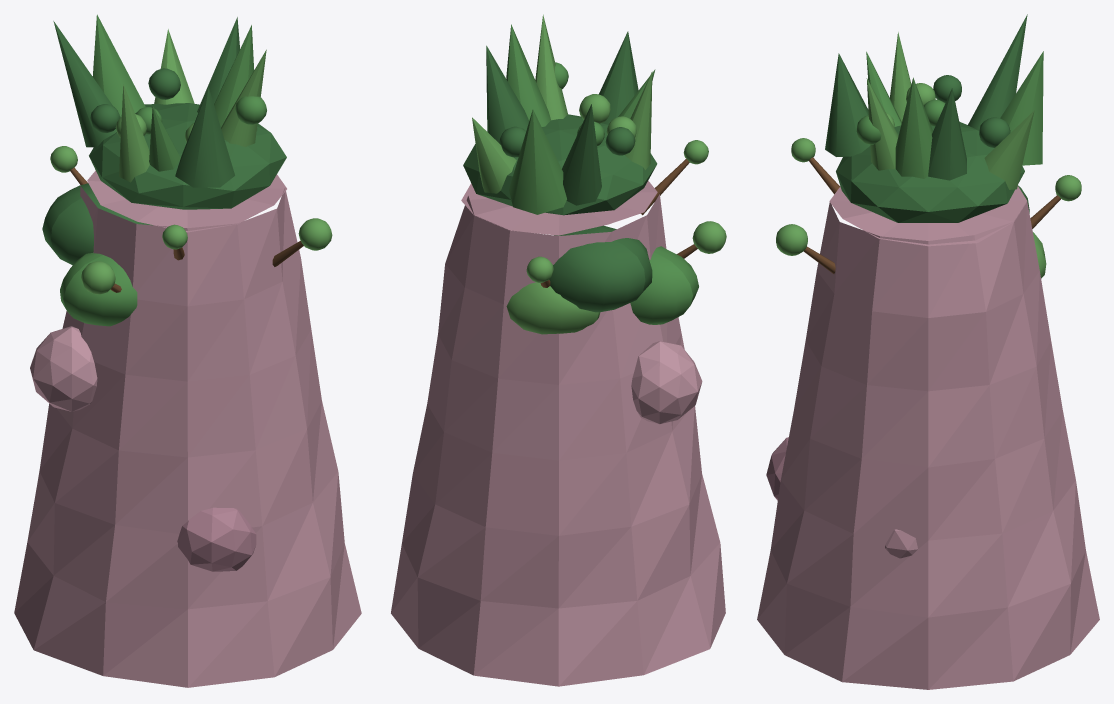
File: tower_pink.glb
3 views of the same model, side by side, from view 1: azimuth 30°, elevation 25°; view 2: azimuth 150°, elevation 25°; view 3: azimuth 270°, elevation 25° (orthographic).
Visible parts, largest first — view 1: tower_pink; view 2: tower_pink; view 3: tower_pink.
Part boxes in pixels (x1=…): tower_pink: x1=14, y1=14, x2=361, y2=687; tower_pink: x1=391, y1=14, x2=726, y2=686; tower_pink: x1=757, y1=14, x2=1099, y2=689.
Bounding box in the file's own units: 8 × 14.8 × 8.
